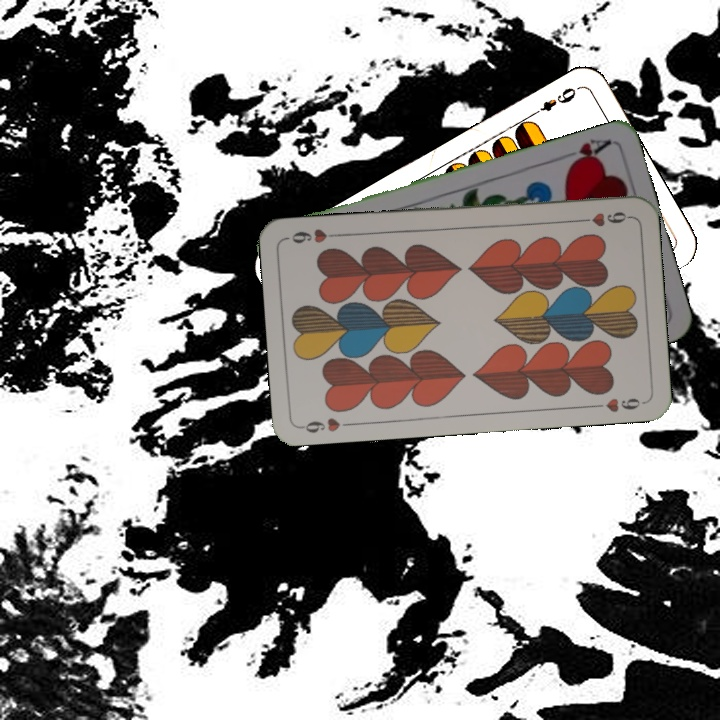E9: (527, 83, 579, 119)
H9: (573, 207, 633, 230), (297, 414, 356, 435)
HA: (555, 134, 613, 170)
